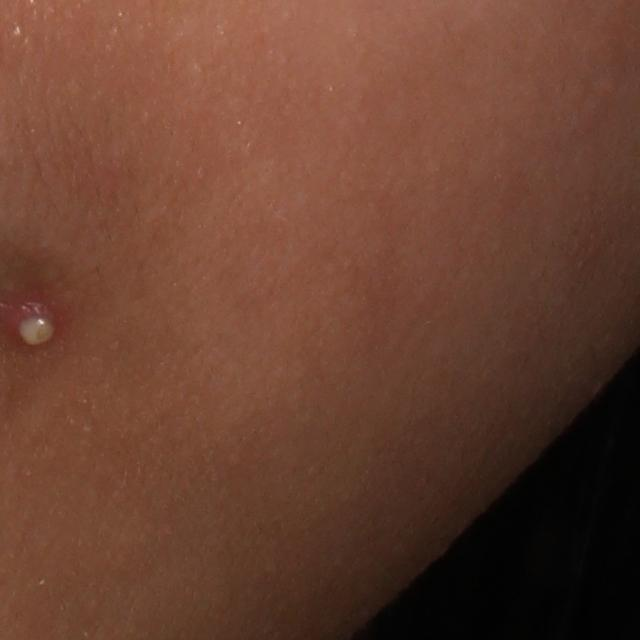pustule: (9, 303, 67, 354)
